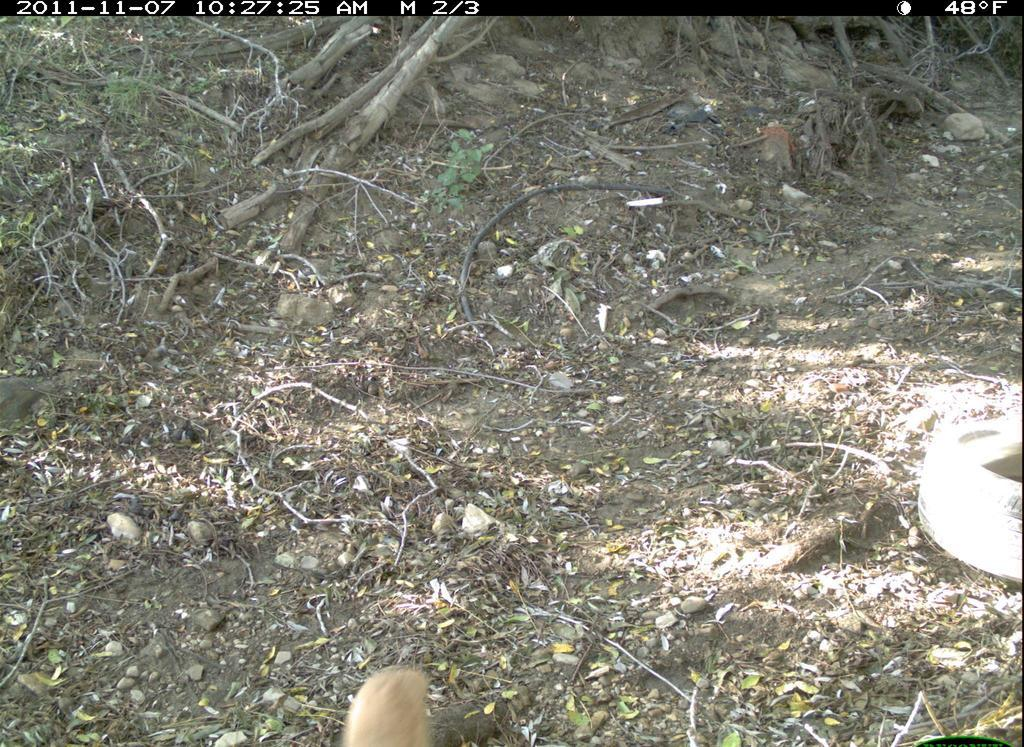cat: (328, 666, 462, 747)
